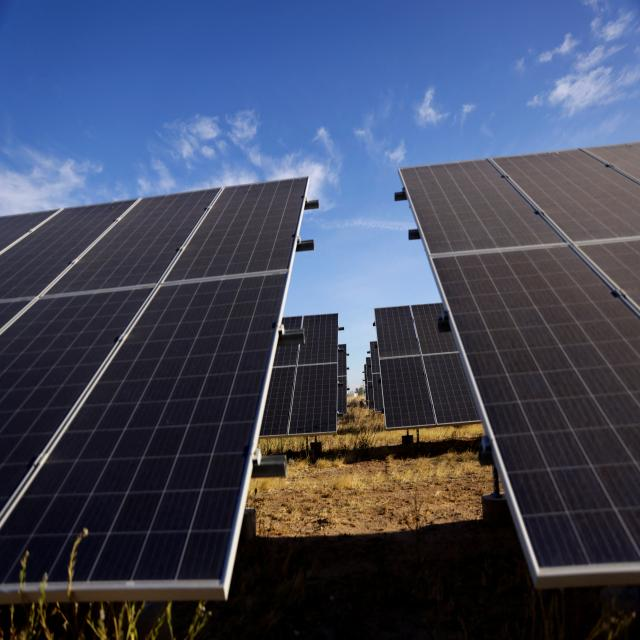clean-solar-panel: (399, 143, 640, 578)
